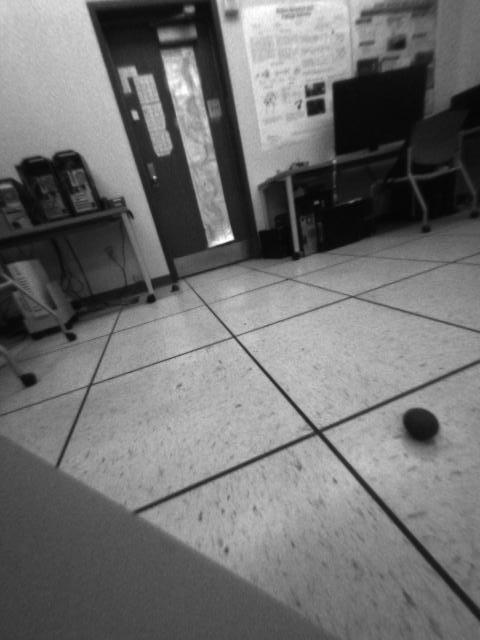dogtoy: (398, 404, 448, 448)
